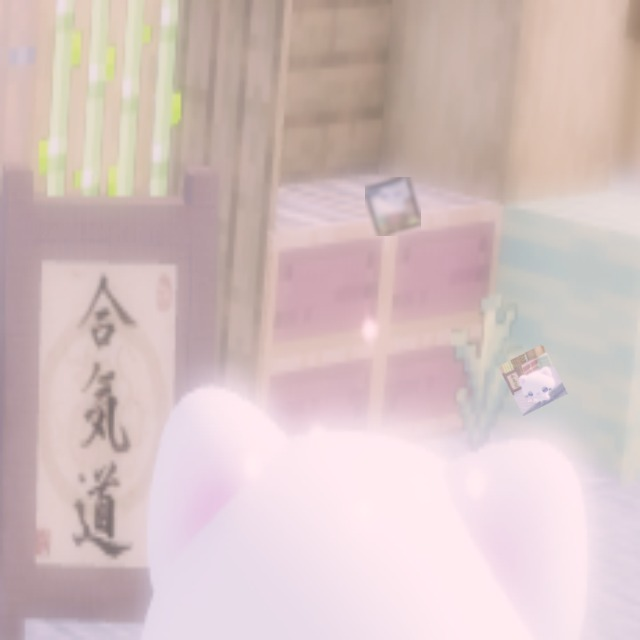urso_branco: (498, 344, 568, 416), (365, 177, 421, 236)
